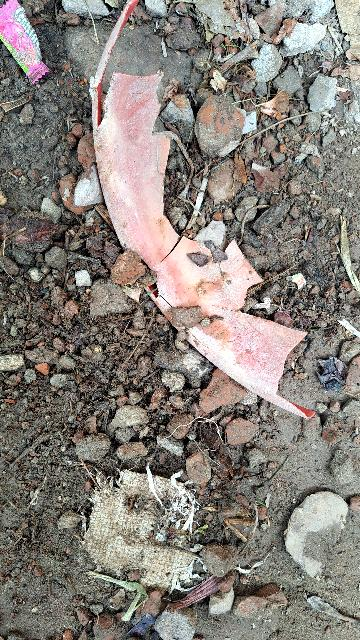hardplastic: (15, 52, 345, 435)
